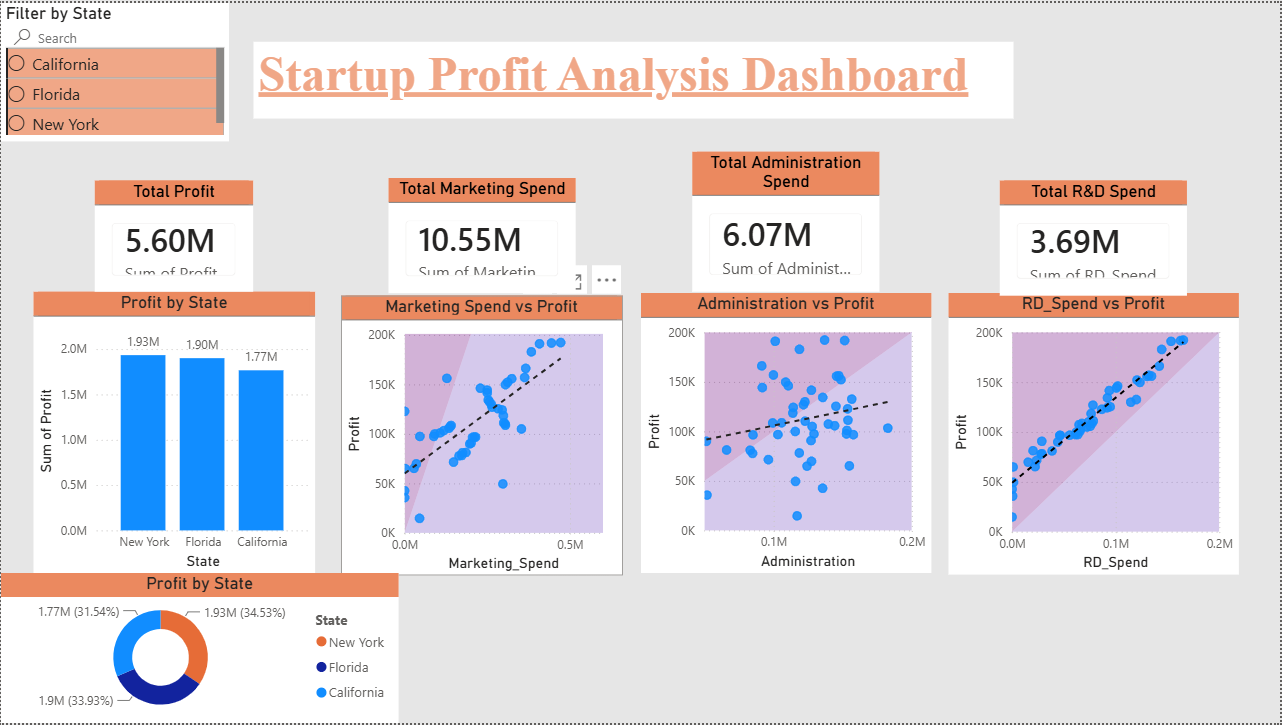

What the dashboard file says about the page in this screenshot:
{"tool":"powerbi","page":{"name":"Page 1","canvas":[1280,720],"ordinal":0},"visuals":[{"type":"clusteredColumnChart","title":"Profit by State","fields":{"Category":["startup.State"],"Y":["Sum(startup.Profit)"]},"box":[32.5,288.8,281.2,281.2],"z":0},{"type":"scatterChart","title":"RD_Spend vs Profit","fields":{"X":["startup.RD_Spend"],"Y":["startup.Profit"]},"box":[947.5,290,290,281.2],"z":1000},{"type":"scatterChart","title":"Marketing Spend vs Profit","fields":{"X":["startup.Marketing_Spend"],"Y":["startup.Profit"]},"box":[340,292.5,281.2,280],"z":2000},{"type":"scatterChart","title":"Administration vs Profit","fields":{"X":["startup.Administration"],"Y":["startup.Profit"]},"box":[640,290,290,280],"z":3000},{"type":"textbox","box":[253,39,760,77],"z":4000},{"type":"cardVisual","title":"Total Profit","fields":{"Data":["Sum(startup.Profit)"]},"box":[93.8,177.5,158.8,111.2],"z":5000},{"type":"cardVisual","title":"Total R&D Spend","fields":{"Data":["Sum(startup.RD_Spend)"]},"box":[998.8,177.5,187.5,115],"z":6000},{"type":"cardVisual","title":"Total Administration Spend","fields":{"Data":["Sum(startup.Administration)"]},"box":[691.2,148.8,187.5,140],"z":7000},{"type":"cardVisual","title":"Total Marketing Spend","fields":{"Data":["Sum(startup.Marketing_Spend)"]},"box":[387.5,175,187.5,115],"z":8000},{"type":"listSlicer","title":"Filter by State","fields":{"Values":["startup.State"]},"box":[0,0,228,138],"z":9000},{"type":"donutChart","title":" Profit by State","fields":{"Category":["startup.State"],"Y":["Sum(startup.Profit)"]},"box":[0,570,397.5,150],"z":9001}]}

Visuals, with their boxes in screenshot pixels (x1, y1, x2, y2), scaled from the page's 1280x720 canvas onto the 1282x725 screenshot:
"Profit by State" clusteredColumnChart: (x1=33, y1=291, x2=314, y2=574)
"RD_Spend vs Profit" scatterChart: (x1=949, y1=292, x2=1239, y2=575)
"Marketing Spend vs Profit" scatterChart: (x1=341, y1=295, x2=622, y2=576)
"Administration vs Profit" scatterChart: (x1=641, y1=292, x2=931, y2=574)
textbox: (x1=253, y1=39, x2=1015, y2=117)
"Total Profit" cardVisual: (x1=94, y1=179, x2=253, y2=291)
"Total R&D Spend" cardVisual: (x1=1000, y1=179, x2=1188, y2=295)
"Total Administration Spend" cardVisual: (x1=692, y1=150, x2=880, y2=291)
"Total Marketing Spend" cardVisual: (x1=388, y1=176, x2=576, y2=292)
"Filter by State" listSlicer: (x1=0, y1=0, x2=228, y2=139)
" Profit by State" donutChart: (x1=0, y1=574, x2=398, y2=724)
